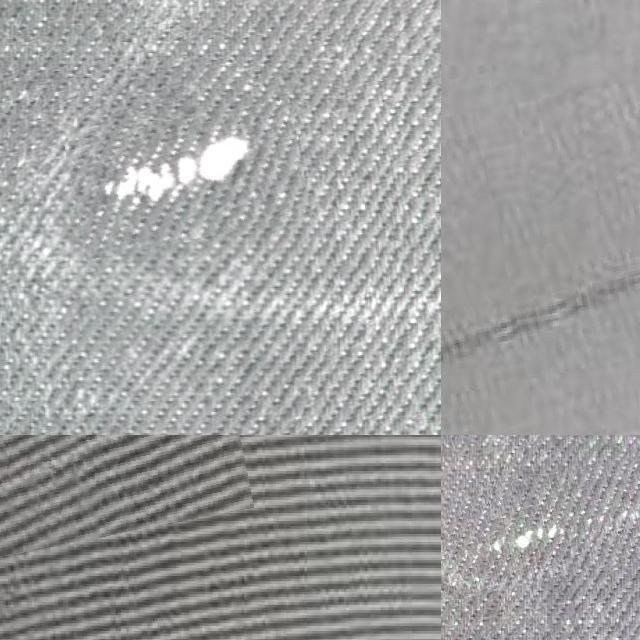stains: (441, 1, 640, 435), (68, 109, 306, 249), (441, 449, 640, 585), (0, 435, 238, 546)
